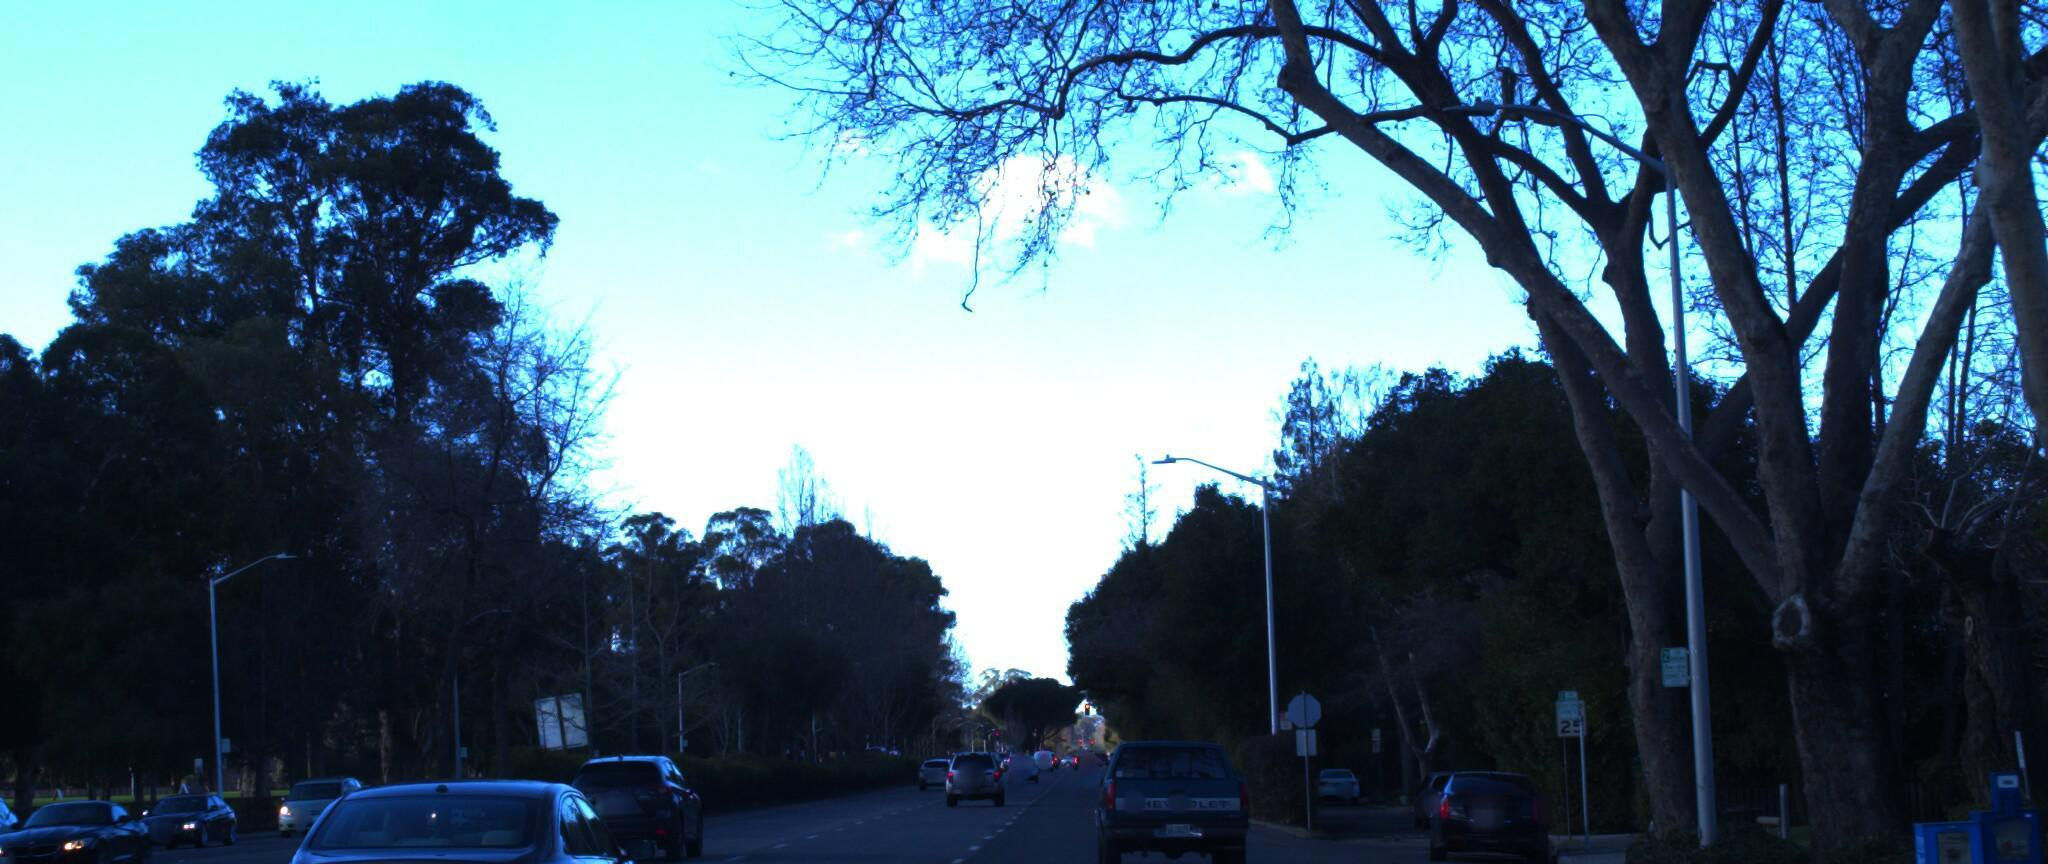car: (209, 752, 687, 864), (1081, 717, 1279, 864), (547, 731, 707, 854), (0, 773, 171, 864), (1421, 748, 1548, 850), (0, 775, 31, 861)
